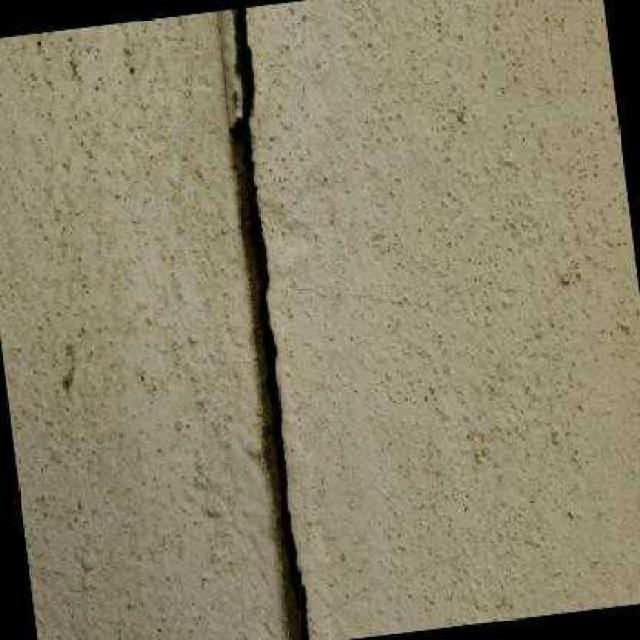D00: (228, 7, 308, 640)
